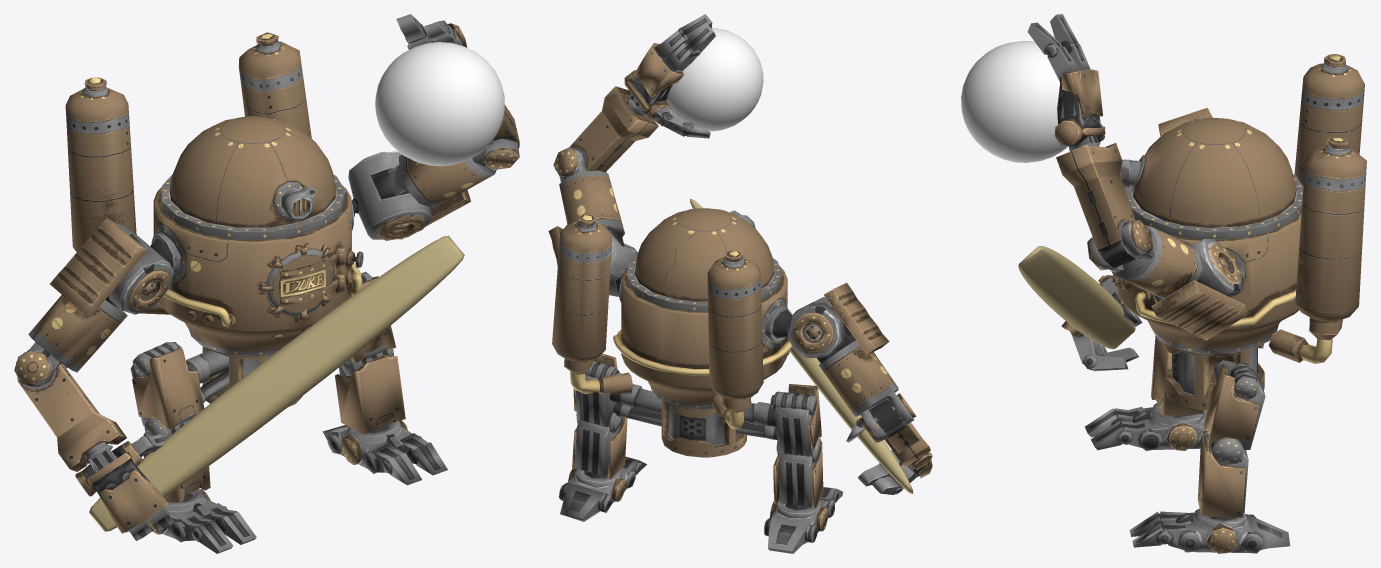
The model's file is enemy_franch_botfbx.fbx.
The picture shows the model from 3 angles, left to right: view 1: azimuth 30°, elevation 25°; view 2: azimuth 150°, elevation 25°; view 3: azimuth 270°, elevation 25°; orthographic projection. The views are drawn at different scales.
Parts seen in each view (by area): view 1: Limbs_R_Low, Body_Low, Limbs_L_Low, Cube, Sphere; view 2: Limbs_L_Low, Limbs_R_Low, Body_Low, Sphere, Cube; view 3: Limbs_L_Low, Body_Low, Limbs_R_Low, Sphere, Cube.
Boxes of the visible parts, x1,y1,x2,y2 form: Limbs_R_Low: (14,77,256,553); Body_Low: (151,116,363,407); Limbs_L_Low: (238,14,519,485); Cube: (89,235,464,531); Sphere: (375,42,504,166); Limbs_L_Low: (548,14,715,521); Limbs_R_Low: (707,250,932,553); Body_Low: (613,208,792,457); Sphere: (666,27,763,131); Cube: (690,198,913,493); Limbs_L_Low: (1027,14,1366,553); Body_Low: (1112,117,1303,410); Limbs_R_Low: (1061,54,1364,450); Sphere: (961,41,1068,162); Cube: (1018,246,1135,349).
Bounding box in the file's own units: 204 × 219 × 158.
